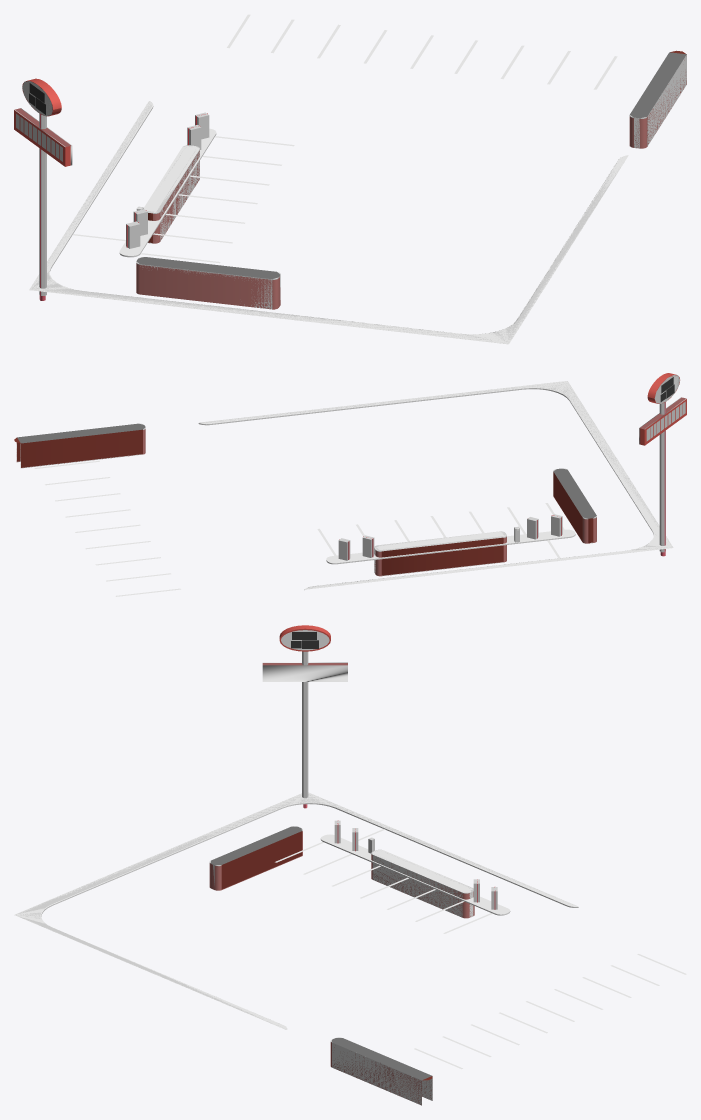
File: diner_building.dae
The picture shows the model from 3 angles, top to bottom: view 1: azimuth 30°, elevation 25°; view 2: azimuth 150°, elevation 25°; view 3: azimuth 270°, elevation 25°; orthographic projection. The views are drawn at different scales.
Parts seen in each view (by area): view 1: diner_building_a600, Colmesh_diner_building-1, diner_building_a350; view 2: Colmesh_diner_building-1, diner_building_a350, diner_building_a600; view 3: Colmesh_diner_building-1, diner_building_a600, diner_building_a350.
Part boxes in pixels (bbox=[...]): diner_building_a600: bbox=[14, 14, 686, 344]; Colmesh_diner_building-1: bbox=[14, 54, 686, 344]; diner_building_a350: bbox=[15, 50, 686, 300]; Colmesh_diner_building-1: bbox=[16, 375, 686, 590]; diner_building_a350: bbox=[14, 397, 685, 575]; diner_building_a600: bbox=[16, 373, 686, 596]; Colmesh_diner_building-1: bbox=[14, 651, 578, 1105]; diner_building_a600: bbox=[14, 625, 686, 1104]; diner_building_a350: bbox=[211, 663, 432, 1080].
Size of the model in its own units: 55.4 by 53.35 by 16.48.
